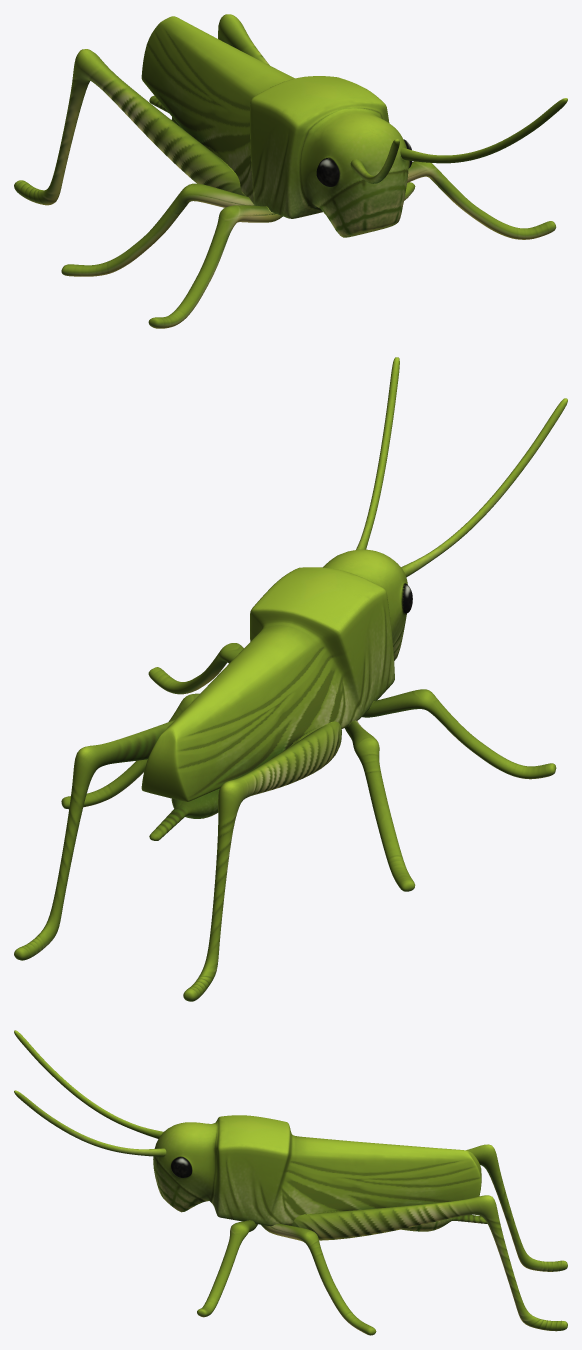
Rendered from grasshopper.glb.
3 views of the same model, one above another, from view 1: azimuth 30°, elevation 25°; view 2: azimuth 150°, elevation 25°; view 3: azimuth 270°, elevation 25° (orthographic). The views are drawn at different scales.
Parts seen in each view (by area): view 1: 10024_Grassshoper_v1_L3; view 2: 10024_Grassshoper_v1_L3; view 3: 10024_Grassshoper_v1_L3.
Boxes of the visible parts, bbox=[...] form: 10024_Grassshoper_v1_L3: bbox=[14, 14, 567, 328]; 10024_Grassshoper_v1_L3: bbox=[14, 357, 567, 1001]; 10024_Grassshoper_v1_L3: bbox=[14, 1030, 567, 1335].
Bounding box in the file's own units: 8.99 × 6.99 × 14.59.
Materials: 1 (1 with a texture image).
